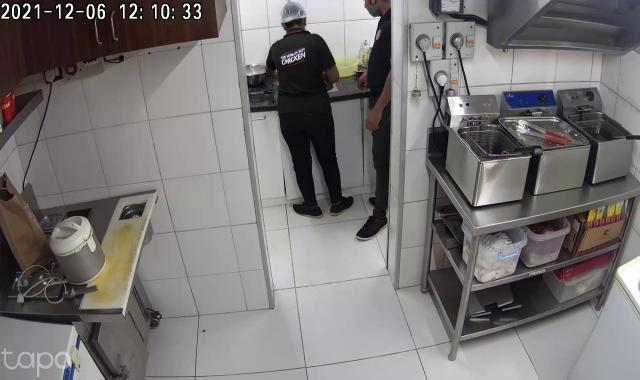Hairnet: (278, 2, 310, 26)
Mask: (364, 4, 384, 18)
No_Apron: (277, 39, 333, 149), (368, 21, 393, 115)
No_Glove: (363, 105, 385, 132), (356, 69, 370, 90)
